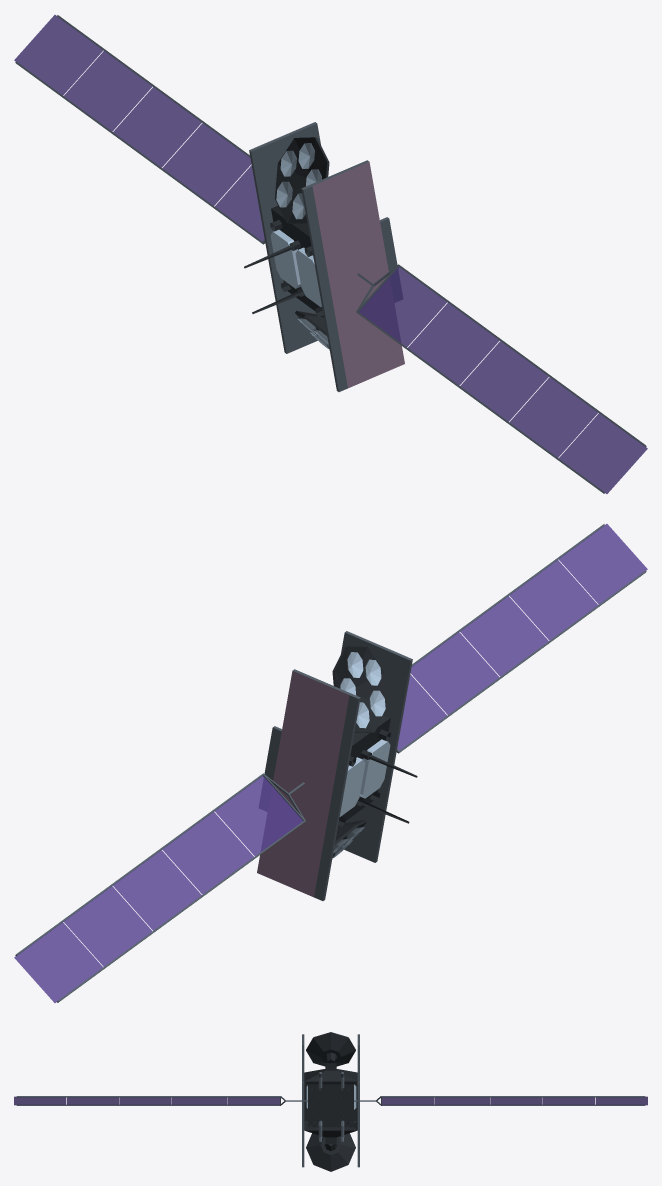
File: Sat-US-WGS.glb
3 views of the same model, one above another, from view 1: azimuth 30°, elevation 25°; view 2: azimuth 150°, elevation 25°; view 3: azimuth 270°, elevation 25° (orthographic). The views are drawn at different scales.
Size of the model in its own units: 21.16 by 35.59 by 158.
